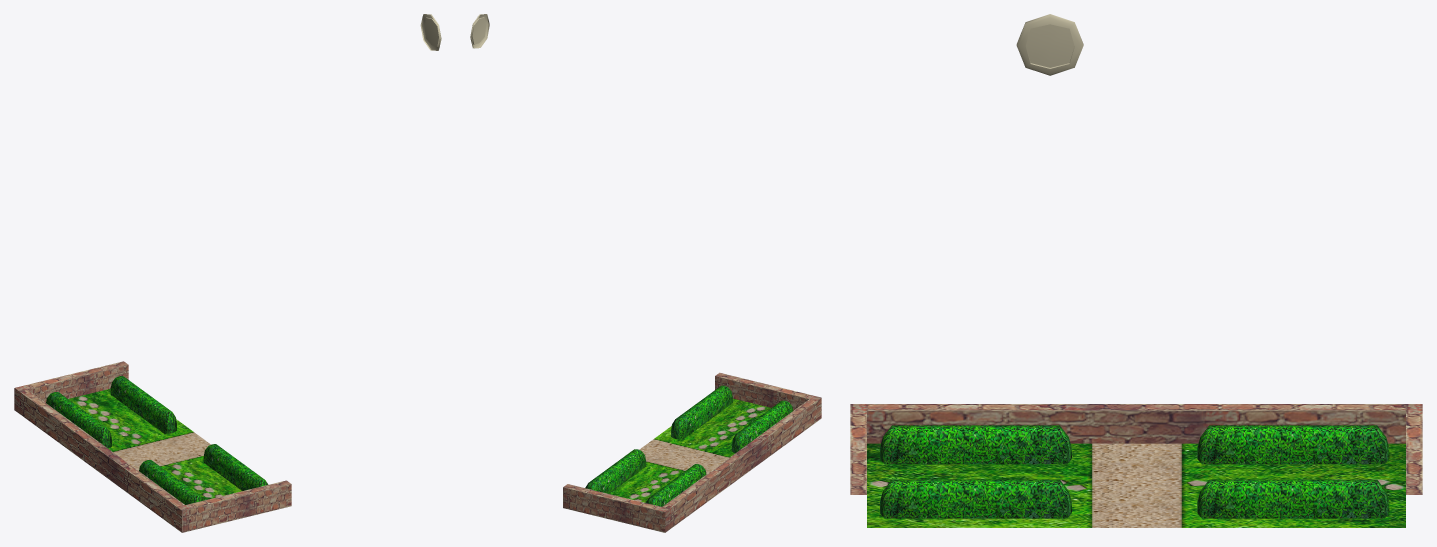
File: garden.fbx
The picture shows the model from 3 angles, left to right: view 1: azimuth 30°, elevation 25°; view 2: azimuth 150°, elevation 25°; view 3: azimuth 270°, elevation 25°; orthographic projection. The views are drawn at different scales.
Parts seen in each view (by area): view 1: polySurface45; view 2: polySurface45; view 3: polySurface45.
Boxes of the visible parts, box(x1,y1,x2,y2) form: polySurface45: box(14, 14, 441, 532); polySurface45: box(470, 14, 821, 532); polySurface45: box(850, 14, 1422, 527).
Size of the model in its own units: 806 by 997 by 757.
